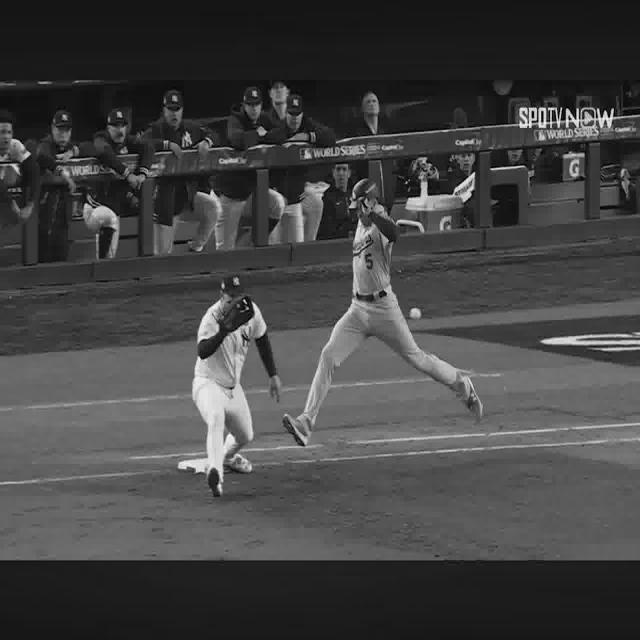base: (178, 458, 208, 473)
baseball: (410, 308, 420, 320)
baseball_glove: (219, 295, 255, 333)
shoe: (455, 373, 484, 422), (282, 413, 311, 447), (224, 453, 254, 473), (208, 468, 224, 497)
